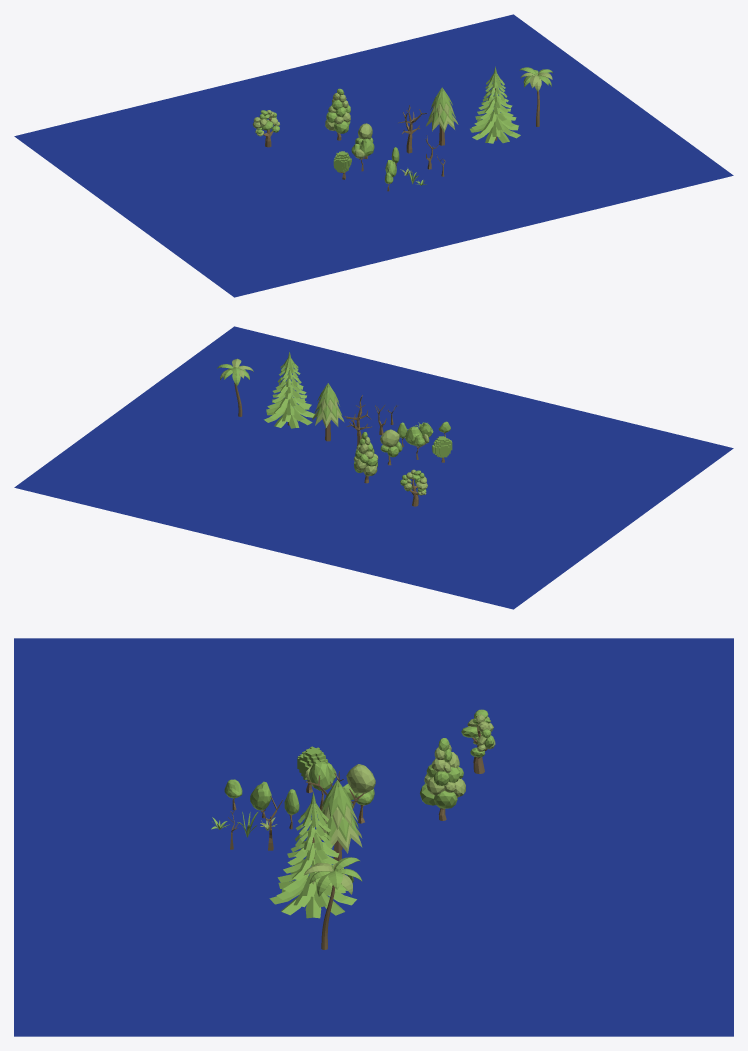
File: LOW_POLY_TREE_ENVIRMENT.fbx
The picture shows the model from 3 angles, top to bottom: view 1: azimuth 30°, elevation 25°; view 2: azimuth 150°, elevation 25°; view 3: azimuth 270°, elevation 25°; orthographic projection. The views are drawn at different scales.
Visible parts, largest first — view 1: Plane.003, Cylinder.003, Circle.003, Cylinder.005, Cylinder.001, Cylinder.004; view 2: Plane.003, Cylinder.003, Circle.003, Cylinder.005, Cylinder.004, Cylinder.001, Vert; view 3: Plane.003, Cylinder.003, Cylinder.005, Circle.003, Cylinder.001, Cylinder.004, Vert, Icosphere.011.
Part boxes in pixels (left/top/right/bottom): Plane.003: left=14, top=14, right=733, bottom=297; Cylinder.003: left=470, top=66, right=520, bottom=143; Circle.003: left=426, top=87, right=458, bottom=145; Cylinder.005: left=325, top=88, right=350, bottom=140; Cylinder.001: left=519, top=67, right=552, bottom=126; Cylinder.004: left=252, top=110, right=279, bottom=147; Plane.003: left=14, top=326, right=733, bottom=609; Cylinder.003: left=264, top=351, right=314, bottom=428; Circle.003: left=312, top=383, right=344, bottom=441; Cylinder.005: left=354, top=432, right=378, bottom=483; Cylinder.004: left=400, top=469, right=427, bottom=506; Cylinder.001: left=217, top=358, right=253, bottom=416; Vert: left=380, top=429, right=402, bottom=465; Plane.003: left=14, top=638, right=733, bottom=1036; Cylinder.003: left=269, top=792, right=356, bottom=918; Cylinder.005: left=420, top=738, right=465, bottom=820; Circle.003: left=318, top=780, right=362, bottom=861; Cylinder.001: left=304, top=857, right=362, bottom=949; Cylinder.004: left=461, top=709, right=495, bottom=773; Vert: left=343, top=764, right=375, bottom=823; Icosphere.011: left=309, top=761, right=336, bottom=810.
Size of the model in its own units: 47696 by 7189 by 36443.
